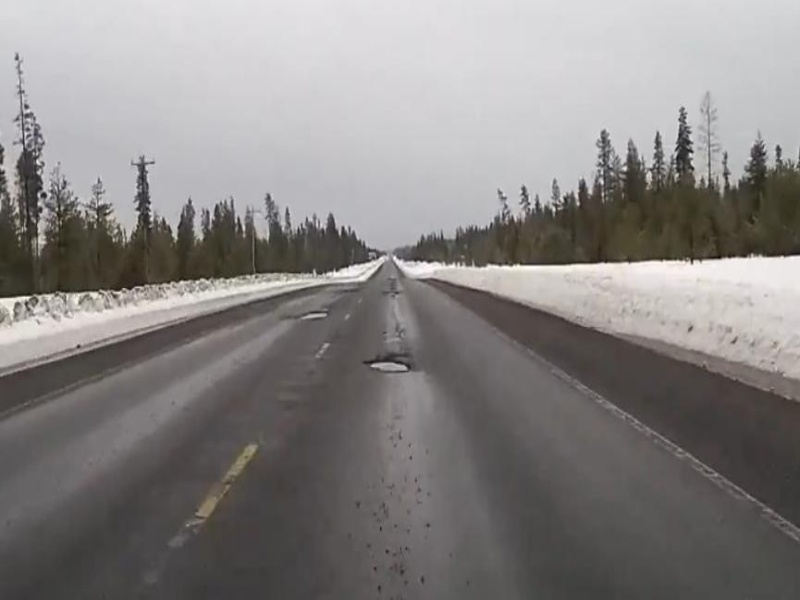pothole: (360, 355, 413, 375)
